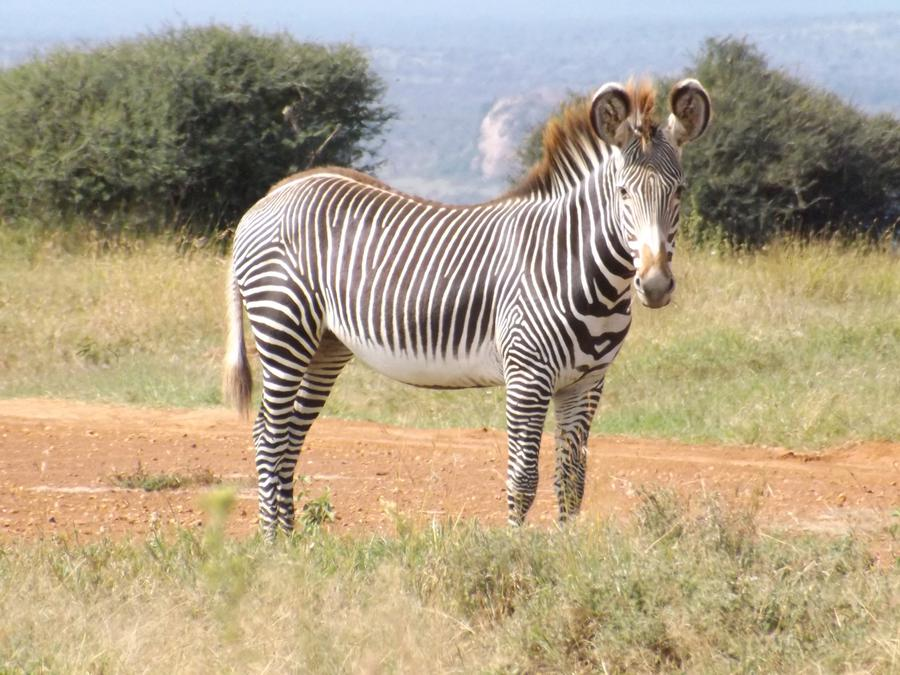zebra_grevys: (248, 159, 570, 398)
